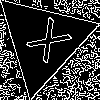X: (18, 16, 73, 72)
